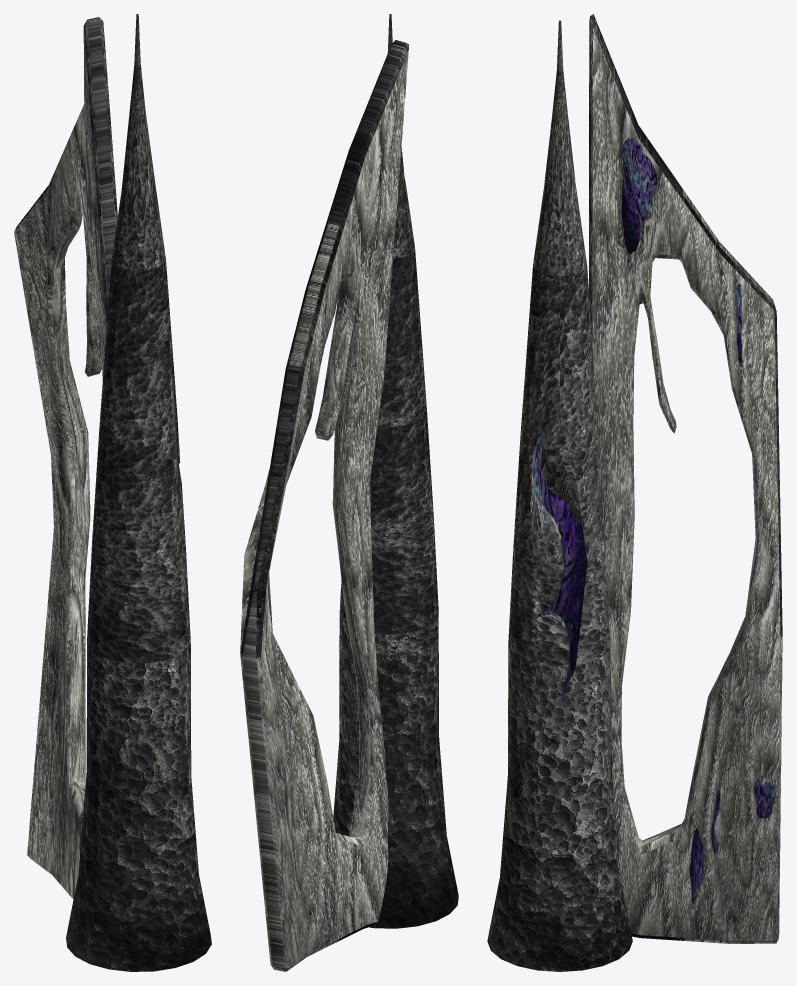
The model's file is Outer_Sanctuary_Piece_01.fbx.
The picture shows the model from 3 angles, left to right: view 1: azimuth 30°, elevation 25°; view 2: azimuth 150°, elevation 25°; view 3: azimuth 270°, elevation 25°; orthographic projection. The views are drawn at different scales.
Parts seen in each view (by area): view 1: Pillar01; view 2: Pillar01; view 3: Pillar01.
Boxes of the visible parts, bbox=[...] form: Pillar01: bbox=[14, 14, 211, 971]; Pillar01: bbox=[240, 14, 458, 971]; Pillar01: bbox=[487, 14, 782, 971].
Bounding box in the file's own units: 1 × 6.97 × 2.03.
